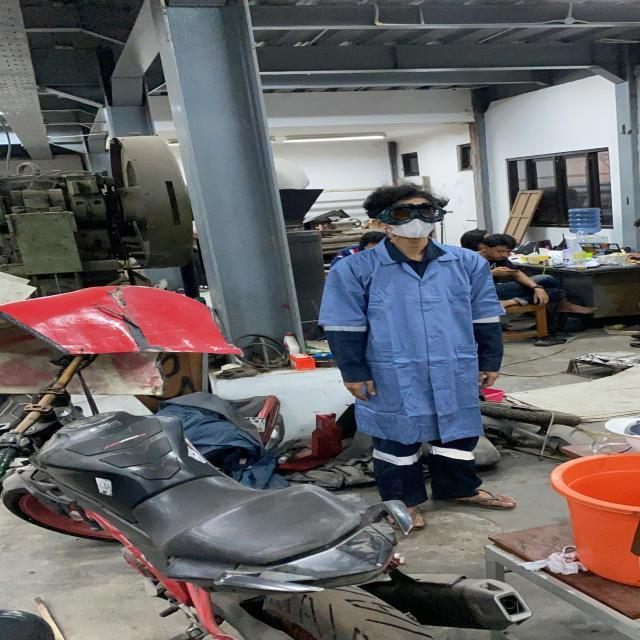glasses: (373, 200, 451, 226)
